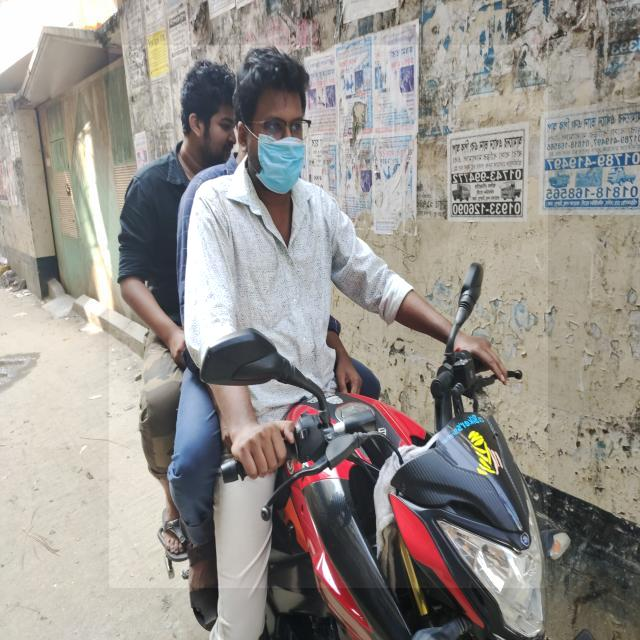Overloading: (109, 45, 548, 588)
